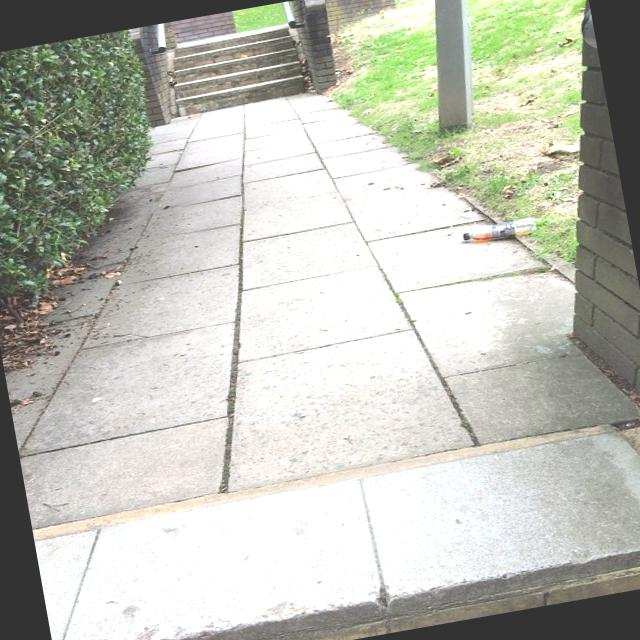Recycle: (459, 211, 543, 248)
